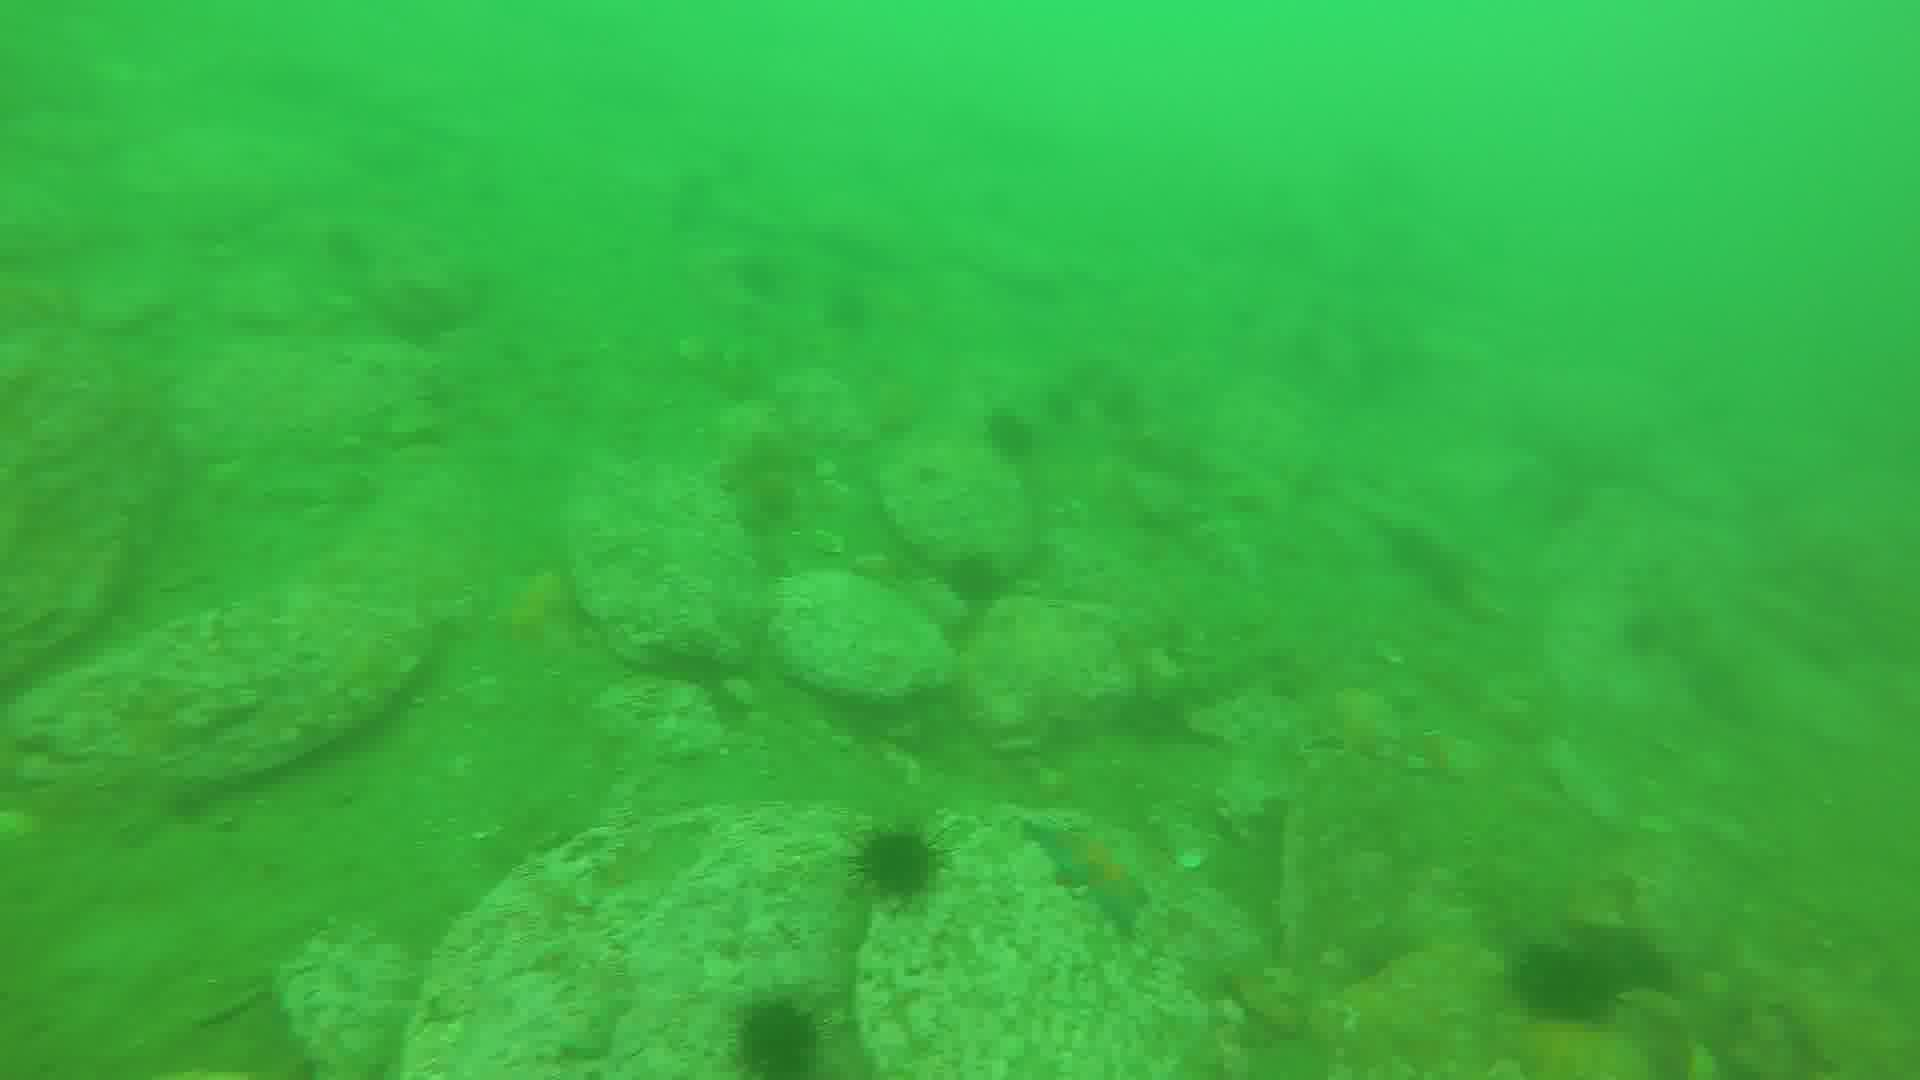echinus: (733, 1006, 843, 1080), (1581, 920, 1687, 993), (1524, 938, 1604, 1025), (851, 829, 947, 901)
starfish: (1021, 808, 1153, 936)
